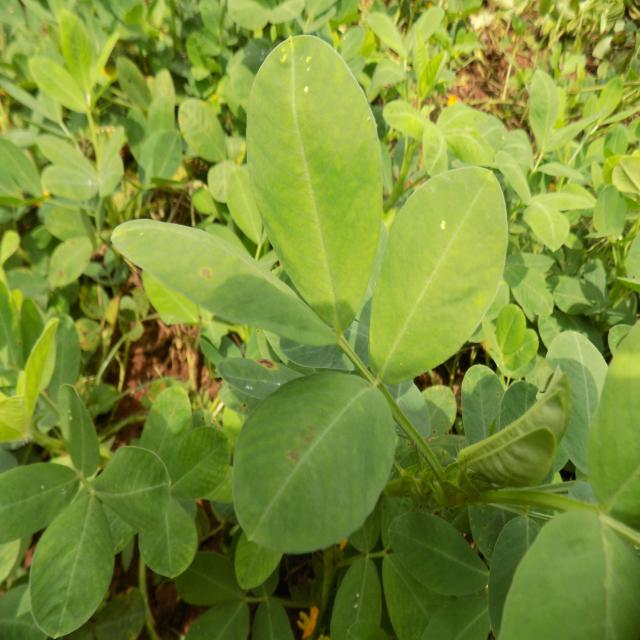Ground nut_healthy: (246, 28, 389, 346), (109, 211, 350, 356), (372, 154, 511, 388), (228, 368, 394, 555), (540, 325, 622, 484), (30, 486, 114, 636), (375, 502, 497, 596), (85, 444, 175, 528), (134, 496, 201, 578), (175, 90, 231, 173), (55, 378, 101, 478), (27, 50, 90, 120), (166, 426, 228, 495), (524, 65, 564, 153), (42, 229, 96, 294), (462, 359, 501, 448), (117, 54, 154, 122), (41, 162, 105, 200), (523, 198, 565, 255), (592, 74, 633, 130)
